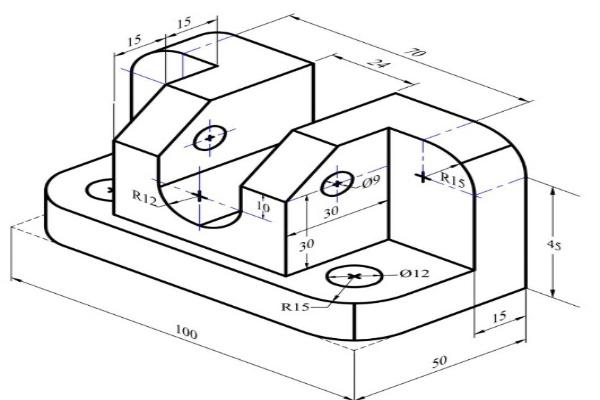dimensions: (436, 167, 474, 192), (172, 317, 202, 343), (275, 298, 315, 317), (399, 39, 432, 62), (128, 187, 160, 209), (397, 265, 435, 283), (425, 351, 454, 373), (171, 9, 197, 33), (365, 54, 394, 74), (293, 238, 327, 255), (358, 173, 386, 192), (485, 308, 512, 327), (320, 205, 347, 223), (546, 234, 567, 255), (123, 32, 151, 47), (254, 198, 276, 216)
